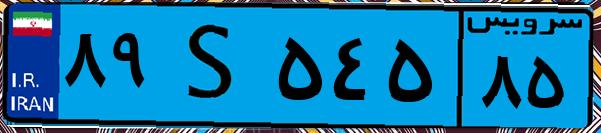4: (330, 28, 385, 110)
5: (270, 28, 330, 110), (385, 28, 445, 110), (525, 38, 570, 115)
8: (57, 26, 110, 100), (475, 38, 525, 113)
9: (110, 28, 158, 98)
S: (158, 12, 270, 120)
